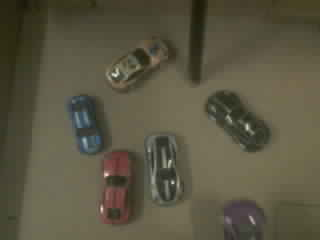Car: (207, 90, 267, 150), (107, 38, 168, 90), (146, 133, 183, 204), (99, 150, 131, 223), (69, 95, 102, 153), (225, 200, 264, 239)
